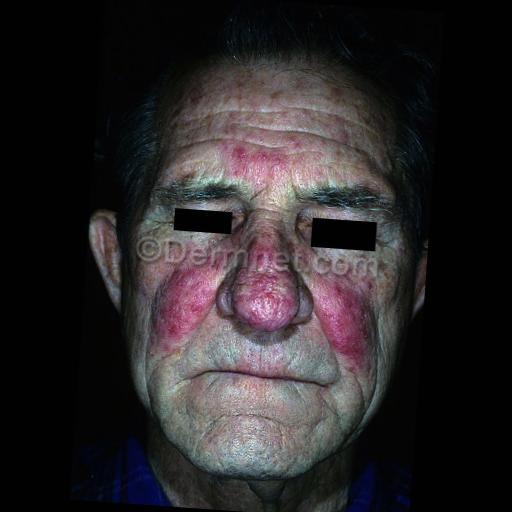Skin_Lesion: (312, 269, 370, 373), (241, 238, 301, 336), (156, 266, 219, 339), (338, 454, 399, 512), (124, 449, 183, 506), (308, 385, 333, 435), (222, 134, 248, 174), (256, 148, 284, 179), (201, 430, 217, 450)
